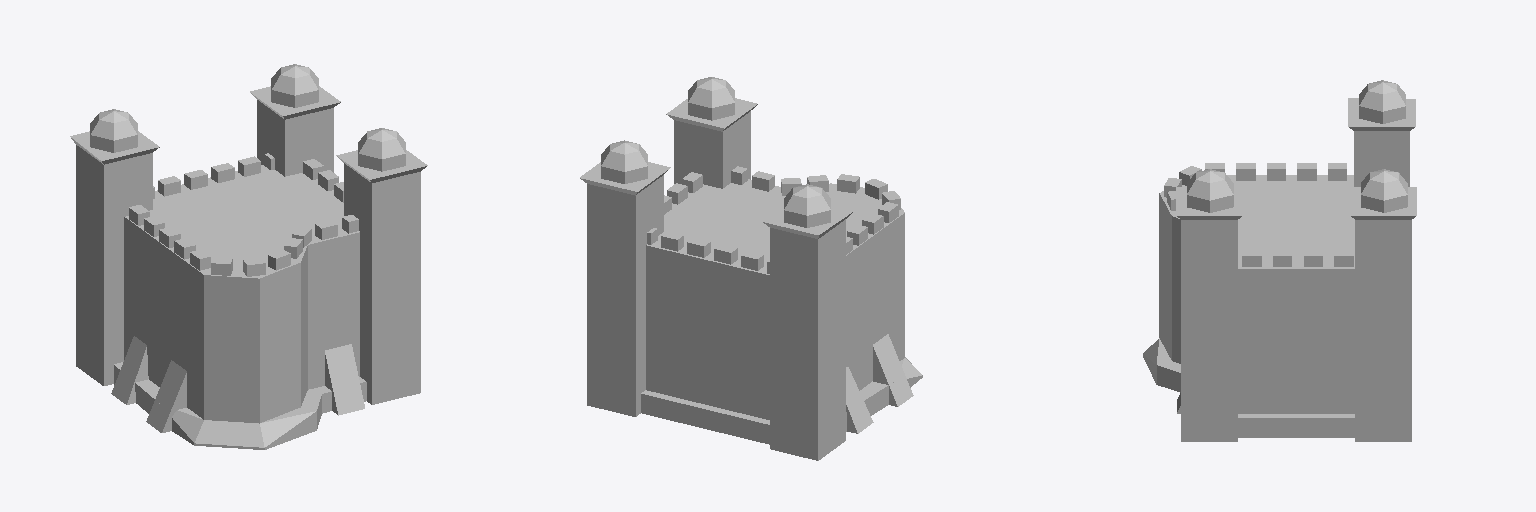
The model's file is old_castle.obj.
The picture shows the model from 3 angles: view 1: azimuth 30°, elevation 25°; view 2: azimuth 150°, elevation 25°; view 3: azimuth 270°, elevation 25°; orthographic projection.
Parts seen in each view (by area): view 1: polySurface11; view 2: polySurface11; view 3: polySurface11.
Part boxes in pixels (bbox=[...]): polySurface11: bbox=[70, 64, 427, 449]; polySurface11: bbox=[580, 77, 922, 460]; polySurface11: bbox=[1143, 80, 1416, 441].
Size of the model in its own units: 20.3 by 20.87 by 20.09.